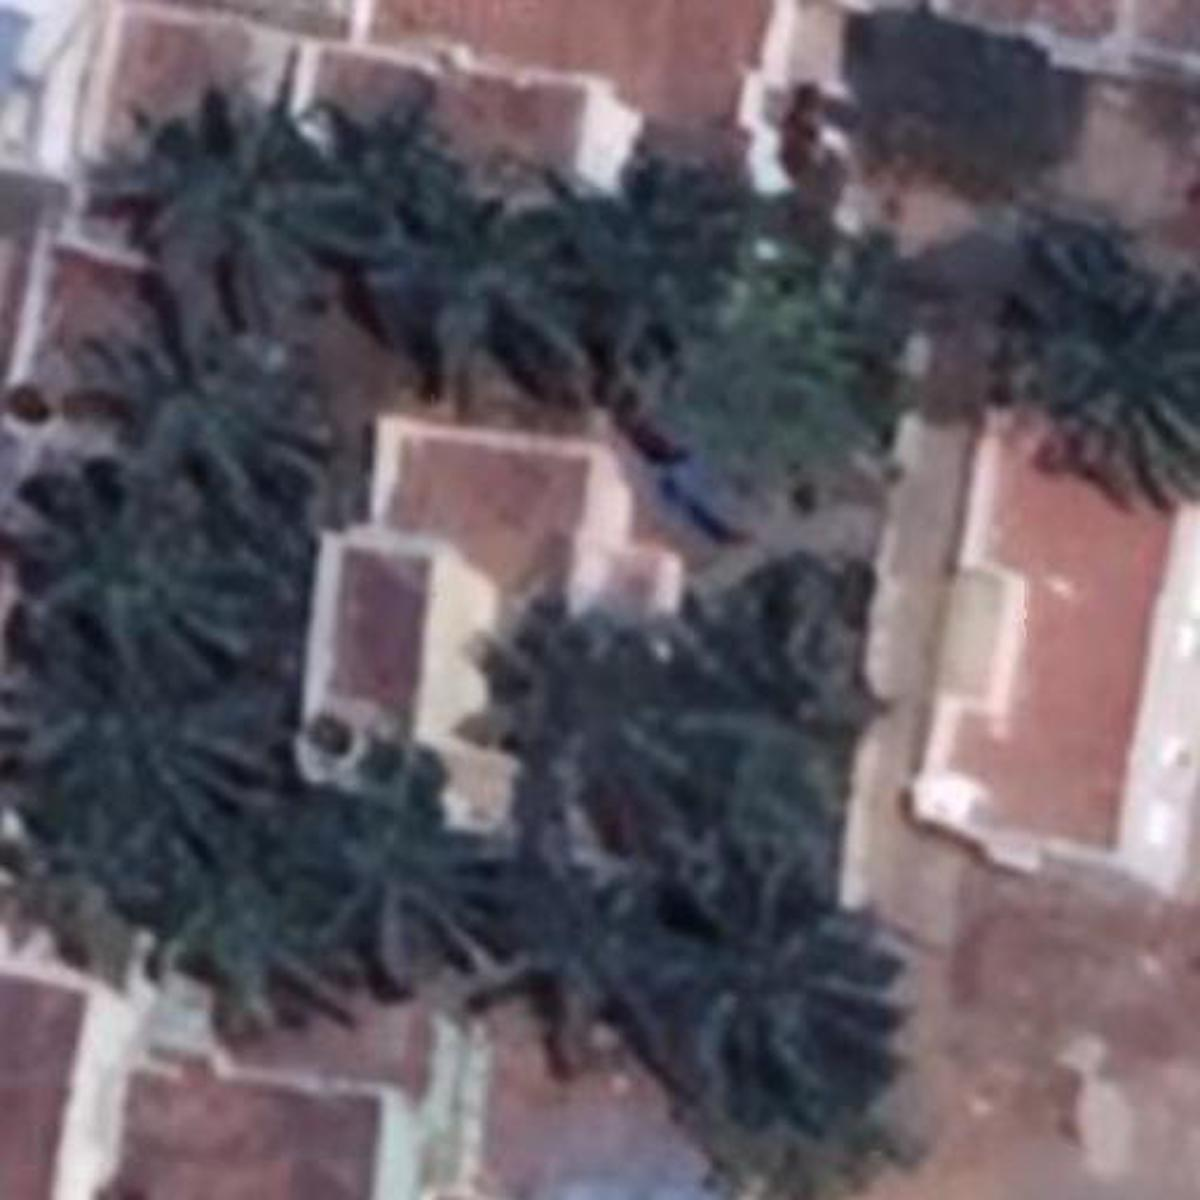coconut: (75, 103, 367, 353), (630, 285, 904, 532), (7, 468, 307, 689), (14, 646, 316, 846), (658, 897, 918, 1125), (89, 316, 353, 527), (473, 607, 698, 853), (262, 778, 499, 998), (363, 196, 600, 414), (114, 829, 356, 1033), (473, 848, 675, 1089), (1026, 229, 1197, 513), (553, 159, 768, 384), (321, 89, 478, 260), (0, 827, 157, 965)
